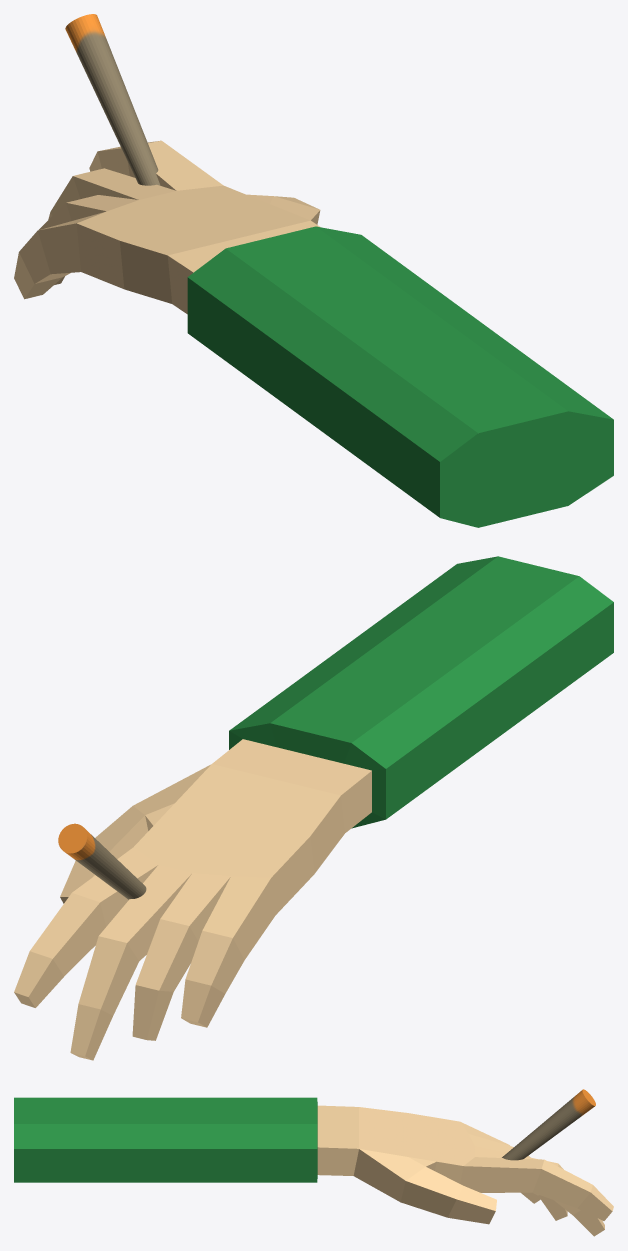
The model's file is player.obj.
3 renders of one model, top to bottom at view 1: azimuth 30°, elevation 25°; view 2: azimuth 150°, elevation 25°; view 3: azimuth 270°, elevation 25°, orthographic. The views are drawn at different scales.
Visible parts, largest first — view 1: Main; view 2: Main; view 3: Main.
Boxes of the visible parts, x1=… form: Main: x1=14, y1=14, x2=613, y2=527; Main: x1=14, y1=556, x2=613, y2=1060; Main: x1=14, y1=1089, x2=613, y2=1236.
Size of the model in its own units: 3.59 by 3.82 by 13.93.
